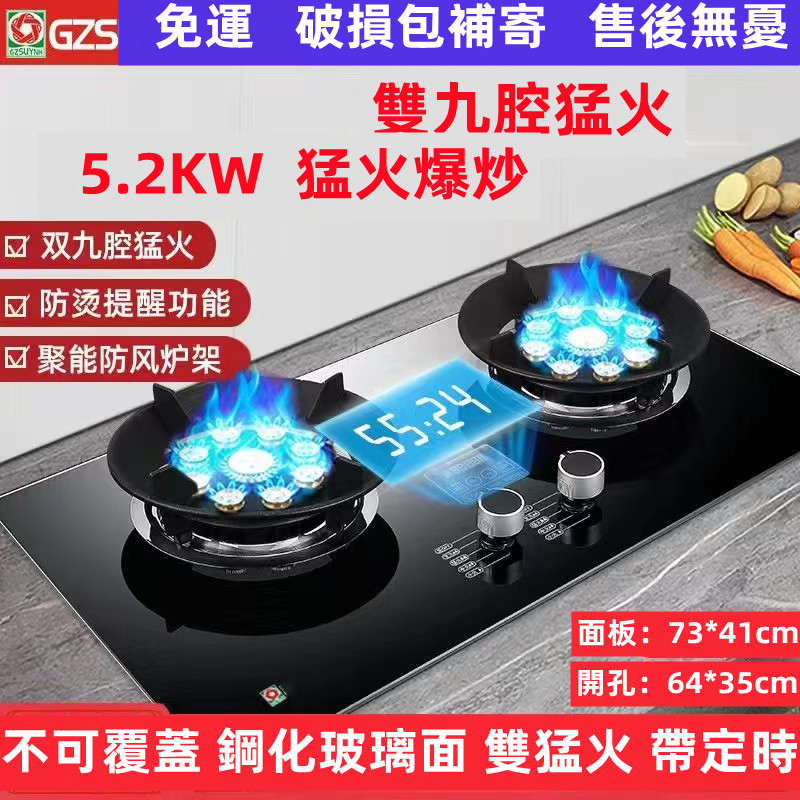gasoven: (3, 257, 796, 713)
